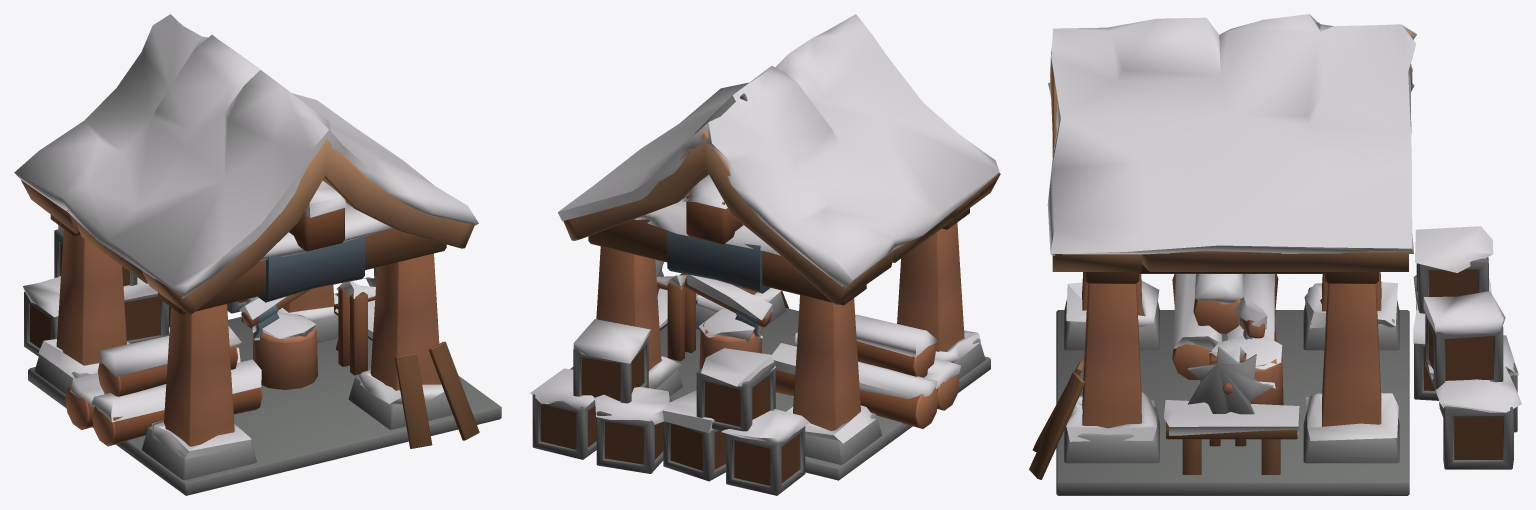
File: WoodWorkSpaceSnowy_2.fbx
3 renders of one model, left to right at view 1: azimuth 30°, elevation 25°; view 2: azimuth 150°, elevation 25°; view 3: azimuth 270°, elevation 25°, orthographic. The views are drawn at different scales.
Parts seen in each view (by area): view 1: WoodWorkSpaceSnowy_2; view 2: WoodWorkSpaceSnowy_2; view 3: WoodWorkSpaceSnowy_2.
Boxes of the visible parts, x1=… form: WoodWorkSpaceSnowy_2: x1=14, y1=14, x2=501, y2=495; WoodWorkSpaceSnowy_2: x1=530, y1=14, x2=1000, y2=495; WoodWorkSpaceSnowy_2: x1=1029, y1=14, x2=1521, y2=495.
Bounding box in the file's own units: 322 × 325 × 358.
